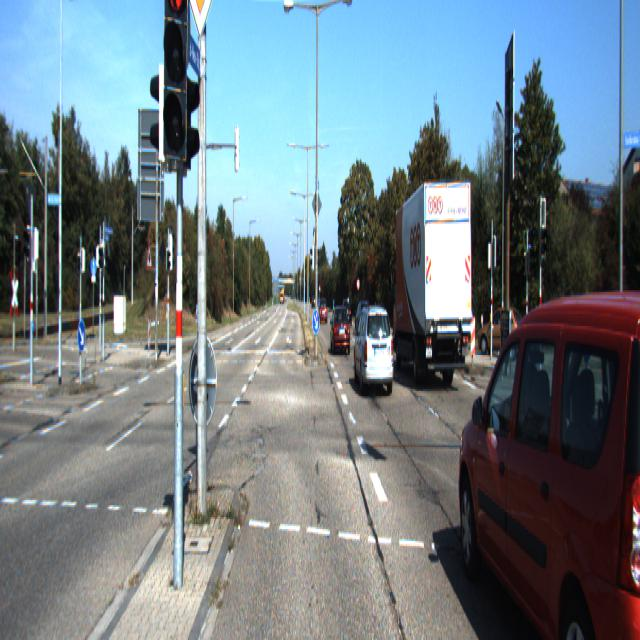Car: (456, 273, 640, 638), (390, 174, 473, 394), (354, 304, 395, 401), (478, 302, 524, 358), (331, 304, 350, 356)
